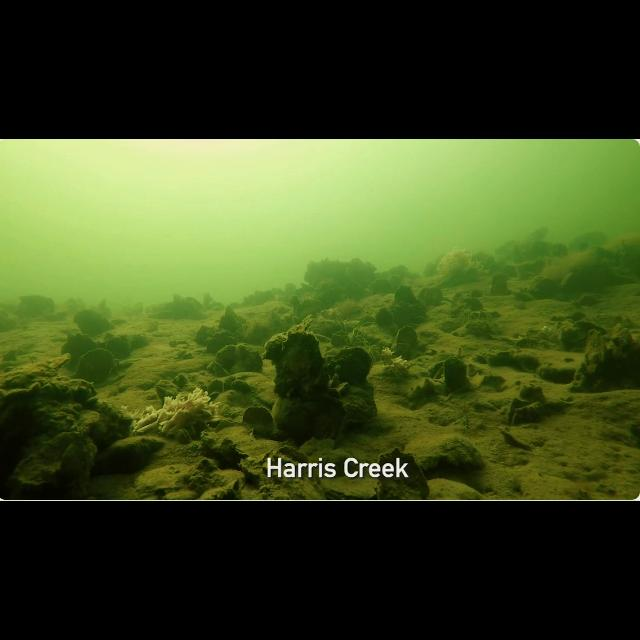Oyster-Closed: (264, 324, 329, 398), (570, 328, 640, 393), (405, 435, 484, 473), (376, 450, 429, 500), (0, 354, 70, 391), (264, 316, 312, 362), (135, 465, 192, 500), (328, 348, 372, 385), (61, 434, 96, 480), (99, 436, 164, 460), (242, 408, 285, 440), (509, 402, 565, 426), (76, 349, 115, 383), (320, 478, 379, 500), (428, 479, 485, 501), (240, 454, 279, 485), (444, 356, 470, 393), (74, 310, 111, 336), (556, 268, 586, 300), (61, 334, 99, 358), (408, 378, 446, 402), (200, 432, 236, 456), (499, 426, 532, 452), (425, 403, 459, 427), (40, 433, 76, 455), (235, 344, 262, 373), (206, 330, 238, 354), (538, 364, 576, 384), (529, 276, 560, 300), (210, 470, 245, 491), (559, 326, 586, 351), (392, 303, 425, 322), (105, 336, 131, 360), (471, 375, 505, 393), (219, 306, 241, 333), (155, 380, 179, 403), (199, 488, 238, 502), (215, 345, 236, 370), (508, 398, 529, 423), (574, 320, 608, 335), (511, 354, 539, 372), (519, 385, 545, 404), (465, 320, 492, 338), (194, 326, 218, 346), (490, 274, 511, 296), (418, 288, 442, 306), (395, 285, 416, 305), (124, 334, 149, 350), (389, 358, 409, 377), (486, 352, 511, 366), (375, 308, 394, 326), (371, 279, 392, 295), (208, 363, 229, 378), (331, 332, 349, 348), (462, 298, 482, 312), (270, 462, 286, 479), (181, 383, 208, 393), (172, 374, 189, 389), (368, 345, 382, 363), (231, 380, 250, 393), (208, 379, 224, 393), (358, 315, 375, 327), (224, 376, 236, 391), (328, 389, 340, 398), (104, 333, 115, 341)
Oyster-Open: (392, 326, 418, 360), (279, 446, 308, 463), (174, 429, 191, 445), (336, 383, 350, 397), (209, 392, 219, 401)
